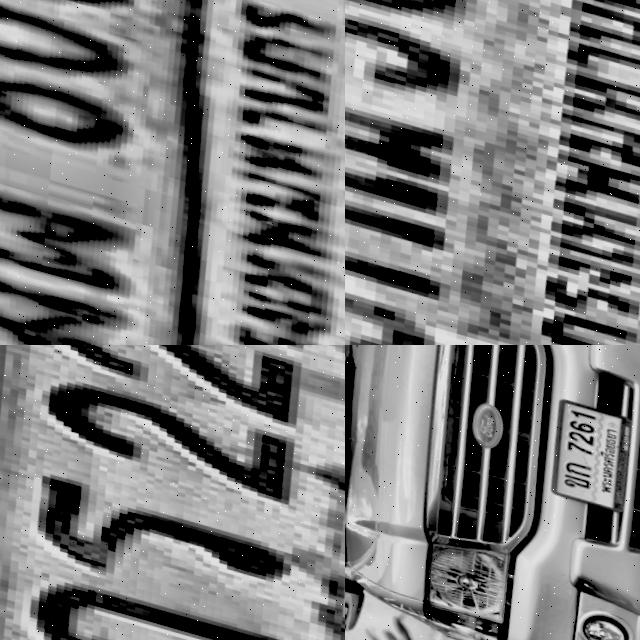license-plate: (0, 0, 345, 345), (345, 0, 640, 345), (0, 345, 345, 640), (532, 385, 640, 506)
